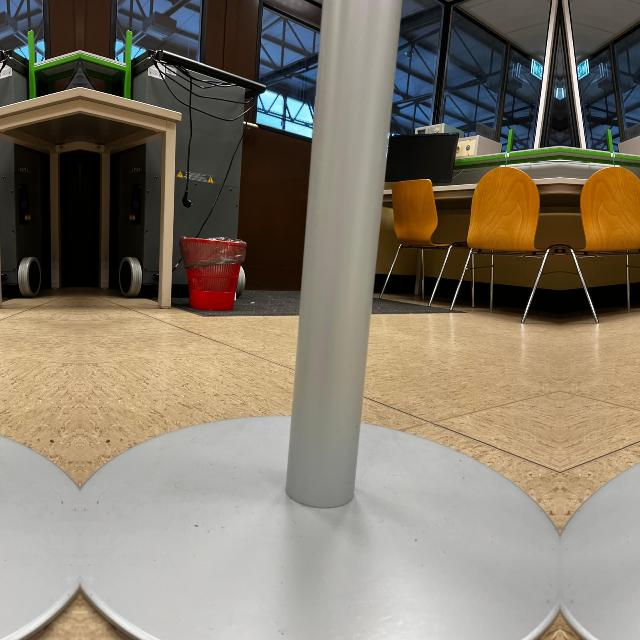obstacle: (82, 238, 560, 640), (559, 238, 640, 639), (0, 238, 78, 639), (177, 235, 247, 309)
